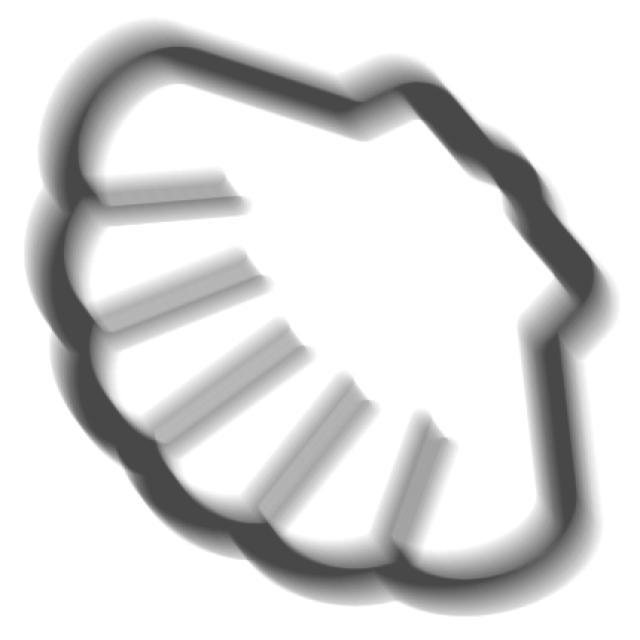shell: (12, 19, 628, 632)
